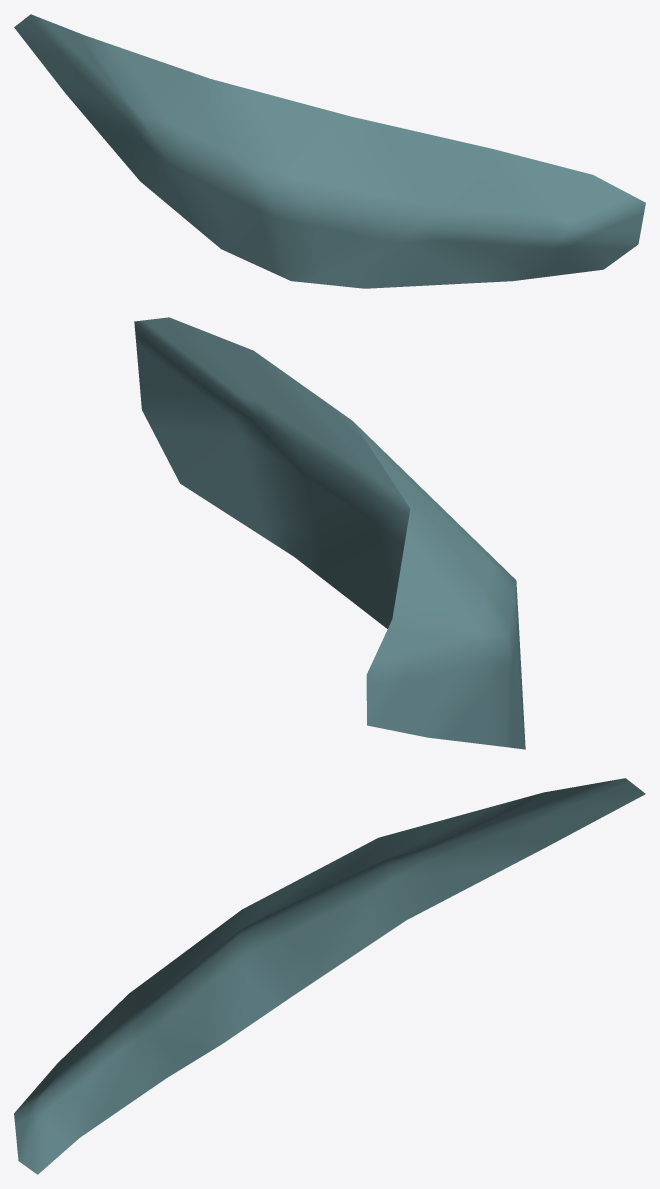
File: SUV_2_Window_Light_P_Tessellate.fbx
3 renders of one model, top to bottom at view 1: azimuth 30°, elevation 25°; view 2: azimuth 150°, elevation 25°; view 3: azimuth 270°, elevation 25°, orthographic. The views are drawn at different scales.
Parts seen in each view (by area): view 1: SUV_2_Window_Light_P_Tessellate; view 2: SUV_2_Window_Light_P_Tessellate; view 3: SUV_2_Window_Light_P_Tessellate.
Boxes of the visible parts, bbox=[...] form: SUV_2_Window_Light_P_Tessellate: bbox=[14, 14, 645, 288]; SUV_2_Window_Light_P_Tessellate: bbox=[134, 317, 525, 749]; SUV_2_Window_Light_P_Tessellate: bbox=[14, 778, 645, 1174].
Size of the model in its own units: 39.32 by 17.4 by 46.92.
